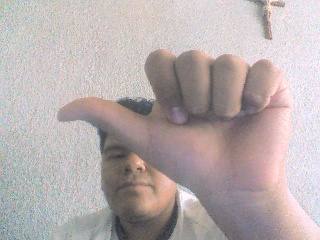Derecha: (51, 42, 304, 206)
